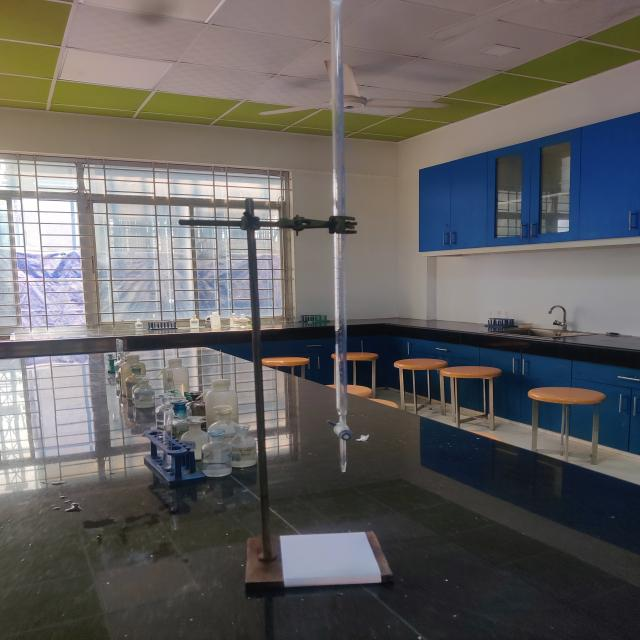Burette_Stands: (173, 1, 434, 608)
